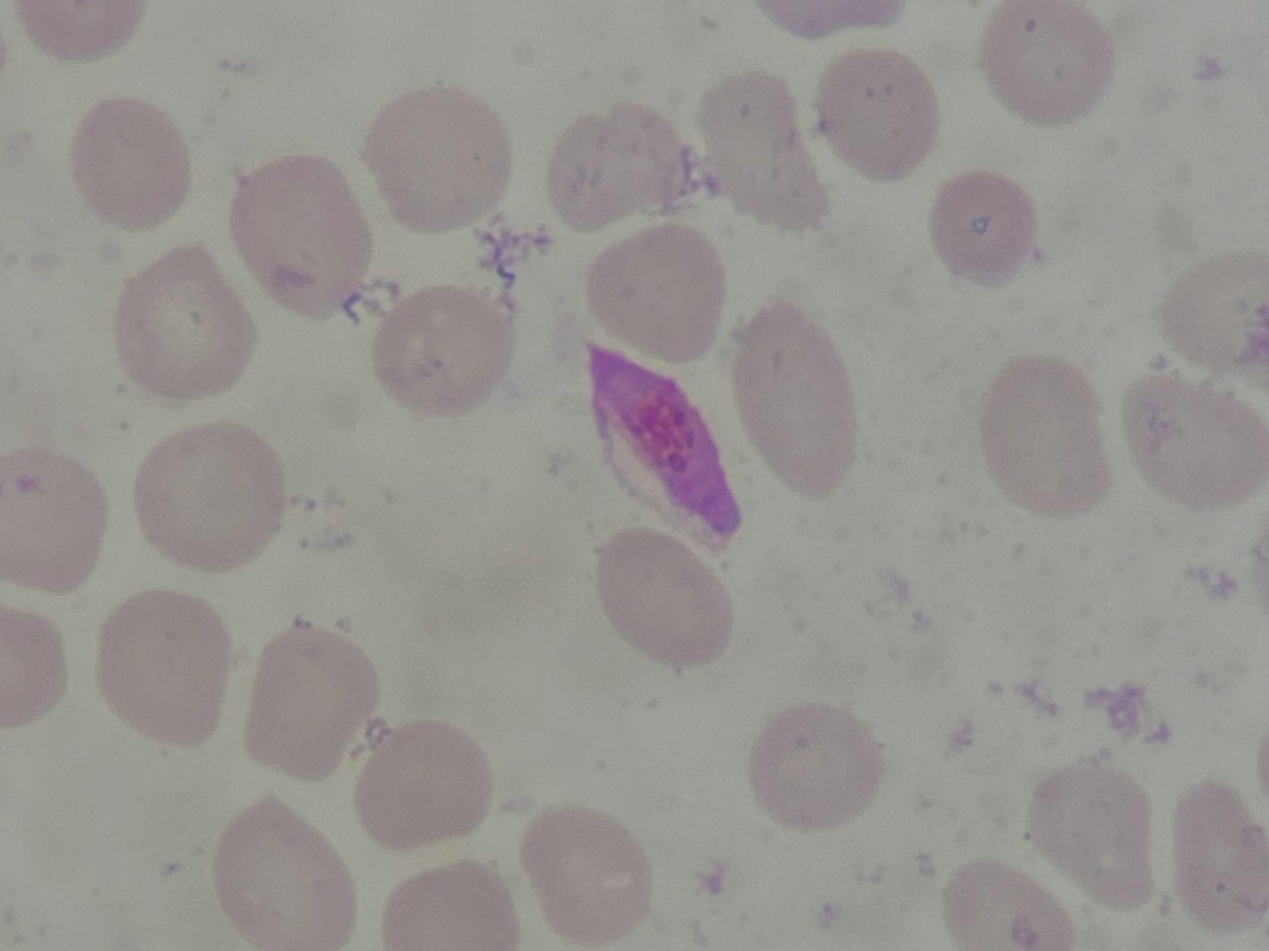Infected: (583, 339, 740, 547)
Uninfected: (734, 303, 862, 501), (135, 418, 285, 570), (365, 81, 514, 234), (230, 157, 370, 315), (210, 798, 358, 947), (112, 248, 259, 398), (699, 70, 836, 230), (981, 354, 1114, 517), (97, 590, 231, 748), (1122, 370, 1269, 514), (243, 627, 380, 780), (593, 526, 737, 670), (1031, 759, 1162, 916), (547, 98, 689, 234), (370, 285, 515, 418), (590, 223, 726, 364), (350, 717, 494, 850), (520, 805, 655, 944), (977, 0, 1117, 128), (750, 699, 884, 830), (66, 98, 194, 234), (818, 45, 943, 184), (0, 446, 112, 592), (1155, 248, 1269, 379), (1181, 782, 1269, 929), (382, 858, 519, 951), (930, 174, 1043, 286), (939, 858, 1074, 951)
